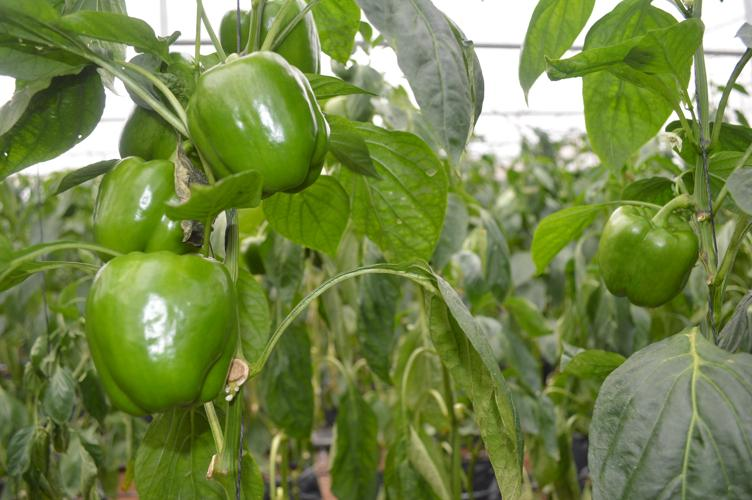BellPepper: (84, 254, 234, 408), (190, 51, 326, 191), (87, 160, 185, 253), (604, 205, 694, 300), (219, 4, 318, 65), (110, 107, 173, 160)
